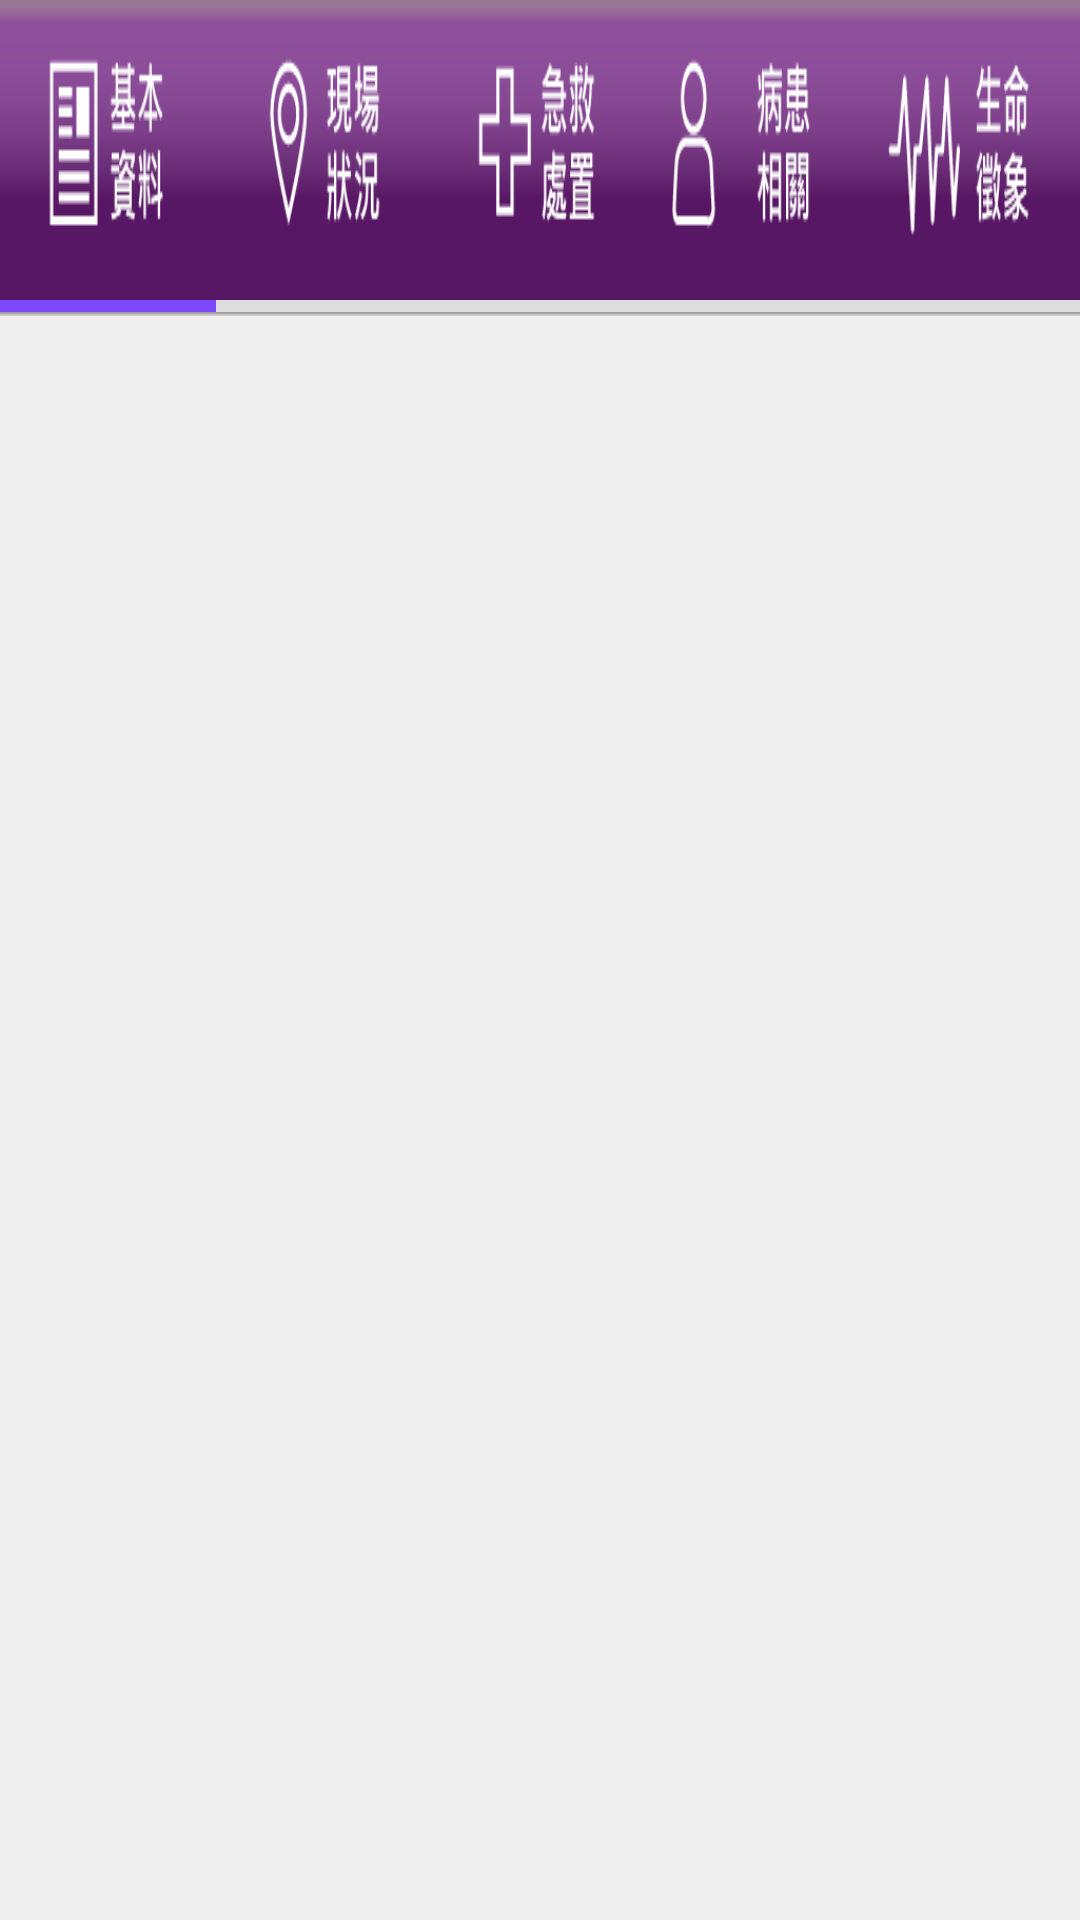

Icons on this 1080w x 1920h Android screen, each with the point to tap as (x=x, y=y):
tab: (x=108, y=150), (x=324, y=150), (x=540, y=150), (x=756, y=150), (x=972, y=150)
